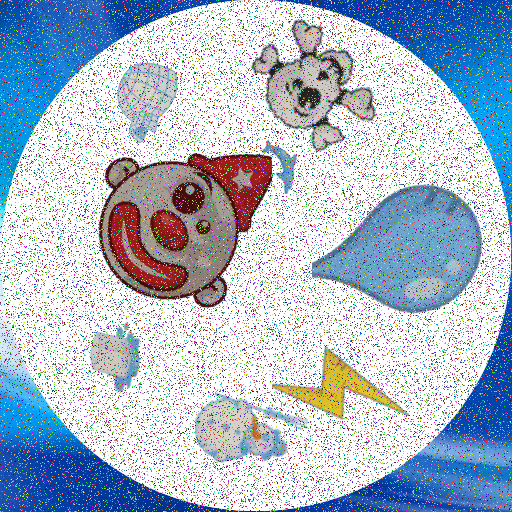clown_icon: (96, 140, 272, 316)
cube_icon: (74, 318, 150, 394)
dolphin_icon: (253, 137, 310, 194)
igloo_icon: (105, 61, 189, 145)
lightning_icon: (272, 325, 410, 463)
raindrop_icon: (312, 163, 487, 338)
skull_icon: (236, 11, 383, 158)
snowman_icon: (195, 369, 308, 482)
